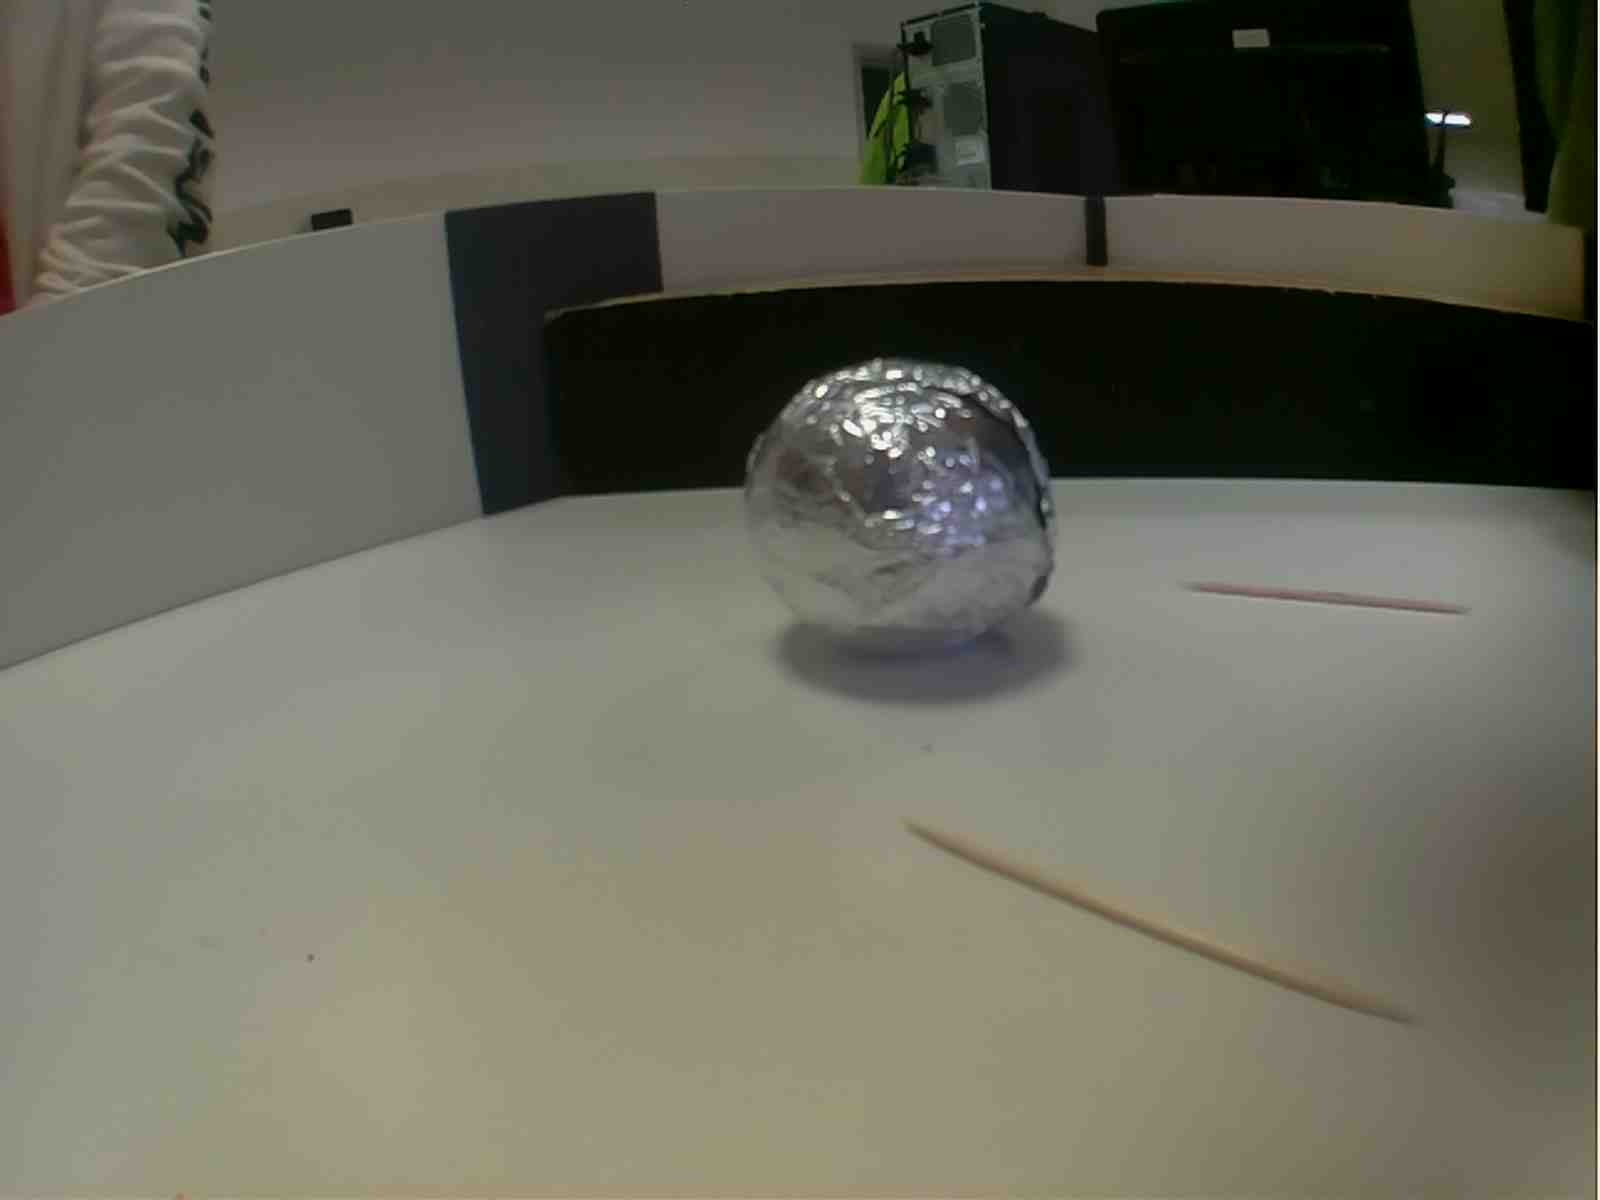bianca: (729, 354, 1073, 659)
